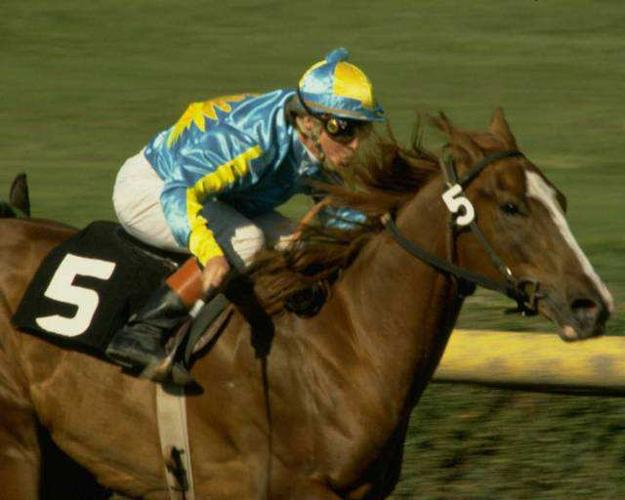person: (106, 51, 384, 386)
